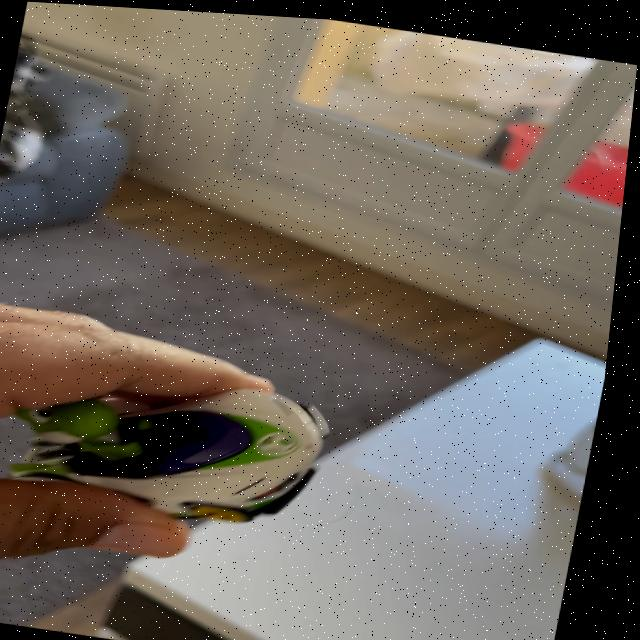yoshi: (0, 339, 364, 544)
